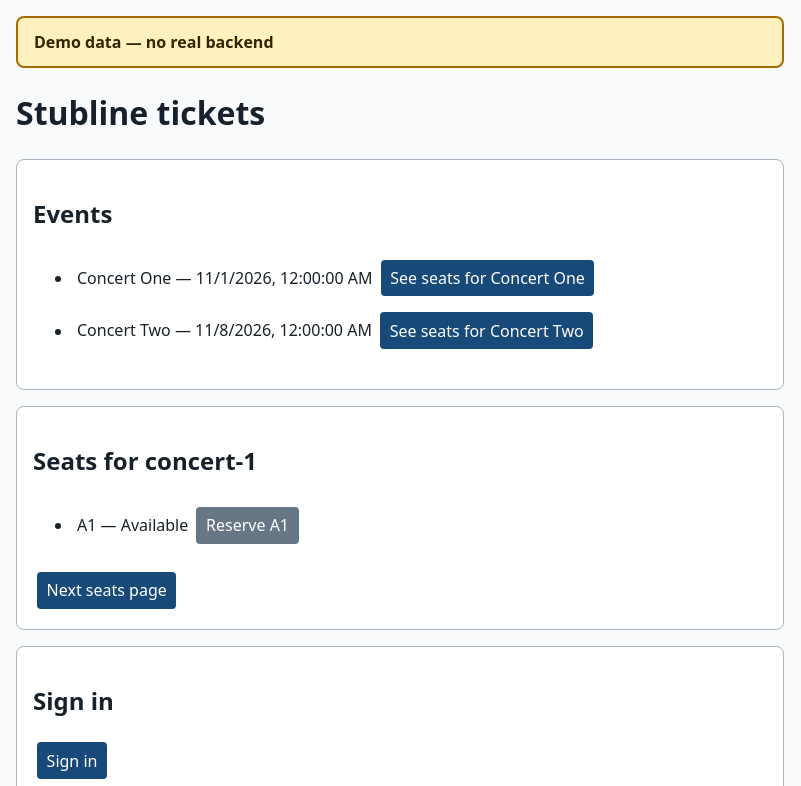
demo switch › shows a reserved demo seat as unavailable
This screenshot has width=801, height=786.
Expected: the list item "A1 — Available Reserve A1" is shown, [77,507,299,544]
Click the button "Sign in": (72, 761) [37,742,107,779]
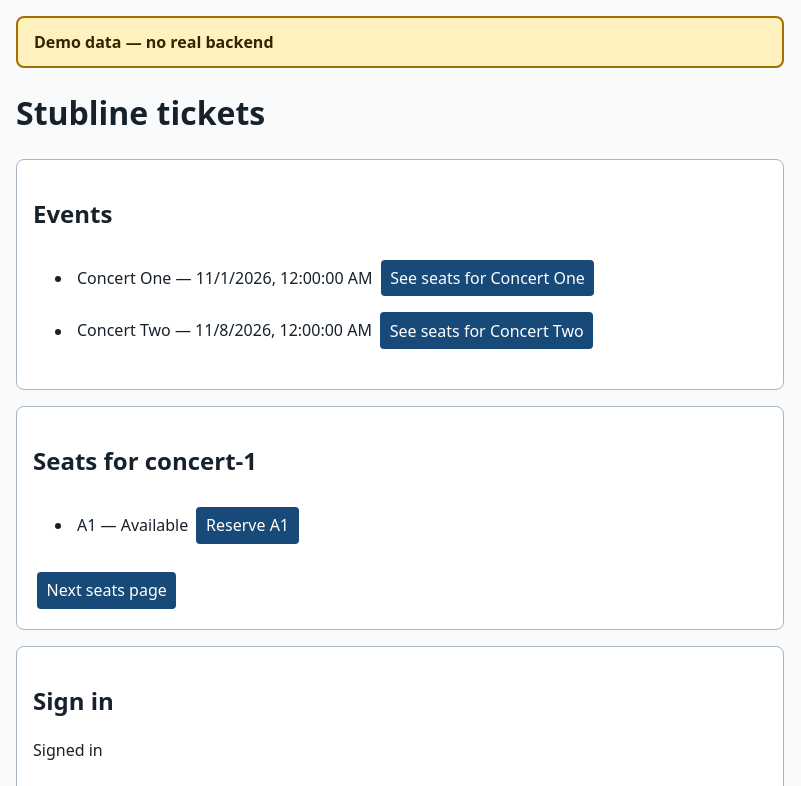
Now the text "Signed in" is shown, box [33,739,103,761]
Click the button "Reserve A1": (248, 526) [196,507,299,544]
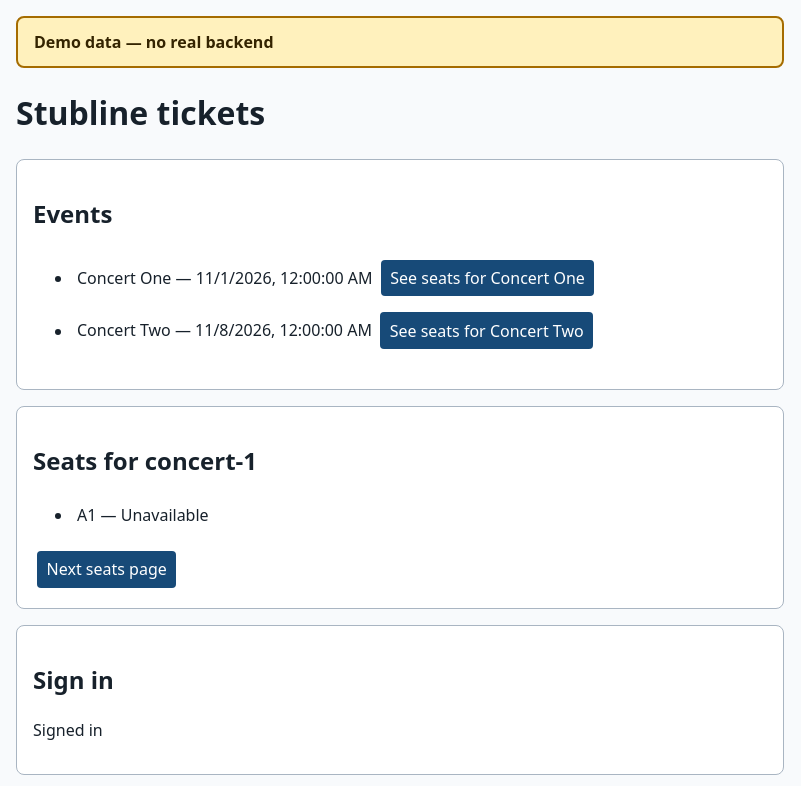
Now the list item "A1 — Unavailable" is shown, box [77,504,209,526]
